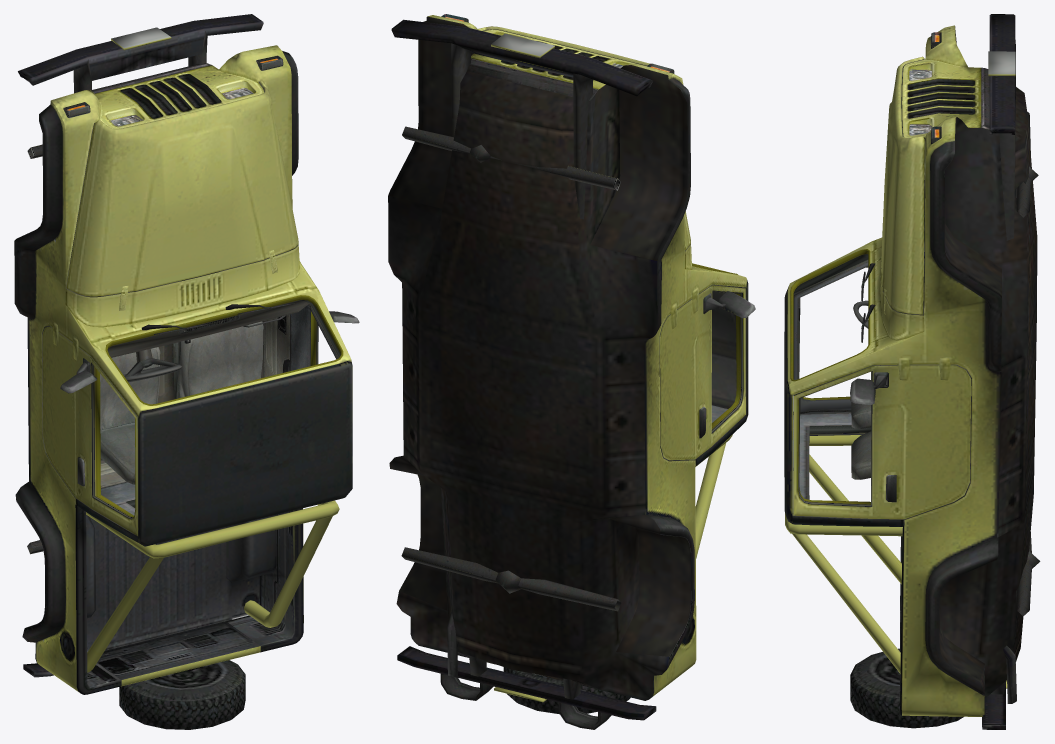
File: jeep.obj
The picture shows the model from 3 angles, left to right: view 1: azimuth 30°, elevation 25°; view 2: azimuth 150°, elevation 25°; view 3: azimuth 270°, elevation 25°; orthographic projection. The views are drawn at different scales.
Visible parts, largest first — view 1: Jeep.001; view 2: Jeep.001; view 3: Jeep.001.
Boxes of the visible parts, bbox=[...] form: Jeep.001: bbox=[14, 14, 359, 729]; Jeep.001: bbox=[388, 14, 755, 729]; Jeep.001: bbox=[784, 14, 1040, 729].
Size of the model in its own units: 1.85 by 3.89 by 1.4.
2 materials, 2 textured.
